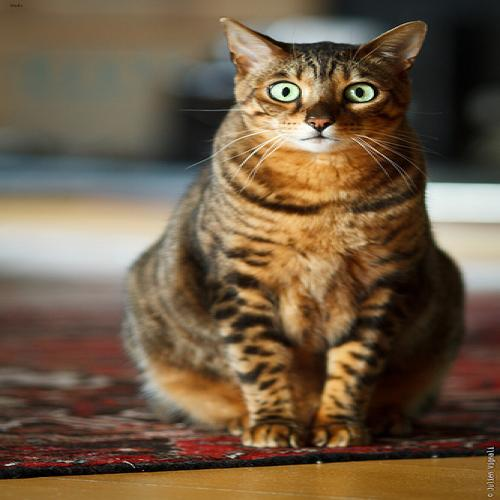bengal: (209, 9, 437, 158)
